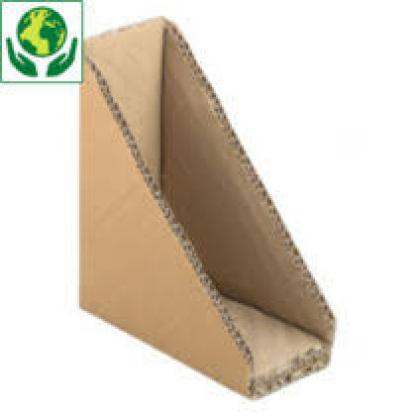CARDBOARD: (73, 12, 335, 398)
